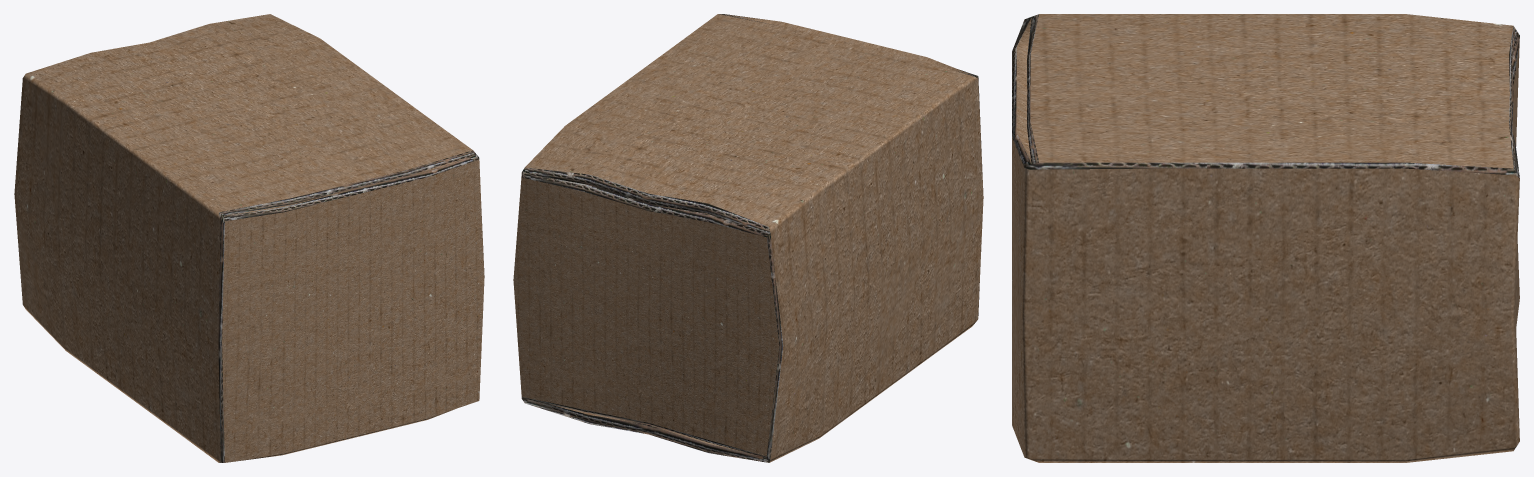
File: SM_3DBox.fbx
The picture shows the model from 3 angles, left to right: view 1: azimuth 30°, elevation 25°; view 2: azimuth 150°, elevation 25°; view 3: azimuth 270°, elevation 25°; orthographic projection. The views are drawn at different scales.
Visible parts, largest first — view 1: EnvironmentBox_003; view 2: EnvironmentBox_003; view 3: EnvironmentBox_003.
Part boxes in pixels (<box>): EnvironmentBox_003: <box>14,14,484,462</box>; EnvironmentBox_003: <box>513,14,983,462</box>; EnvironmentBox_003: <box>1012,14,1519,462</box>.
Size of the model in its own units: 76.76 by 68.1 by 104.
